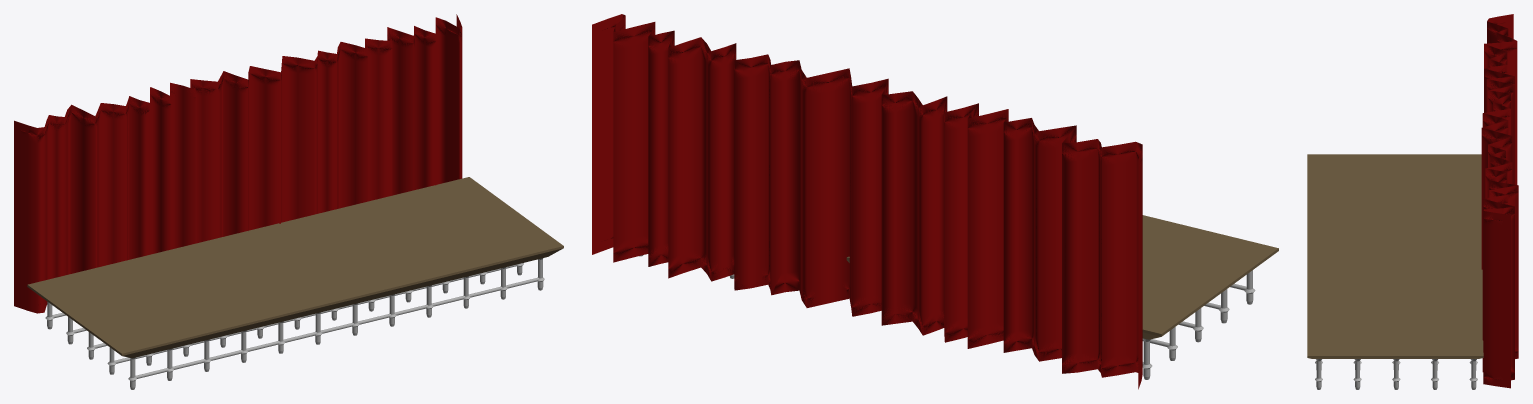
File: Piattaforma_Palchetto_2_GGJ.fbx
The picture shows the model from 3 angles, left to right: view 1: azimuth 30°, elevation 25°; view 2: azimuth 150°, elevation 25°; view 3: azimuth 270°, elevation 25°; orthographic projection. The views are drawn at different scales.
Visible parts, largest first — view 1: nurbsToSubd1, pCube1, pCylinder61, pCylinder62; view 2: nurbsToSubd1, pCube1; view 3: pCube1, nurbsToSubd1.
Part boxes in pixels (<box>): nurbsToSubd1: <box>14,14,462,313</box>; pCube1: <box>27,177,563,358</box>; pCylinder61: <box>135,277,539,378</box>; pCylinder62: <box>114,264,518,363</box>; nurbsToSubd1: <box>592,14,1142,389</box>; pCube1: <box>846,215,1278,339</box>; pCube1: <box>1307,154,1483,358</box>; nurbsToSubd1: <box>1481,14,1518,388</box>.
Bounding box in the file's own units: 17.07 × 7.19 × 7.54.
